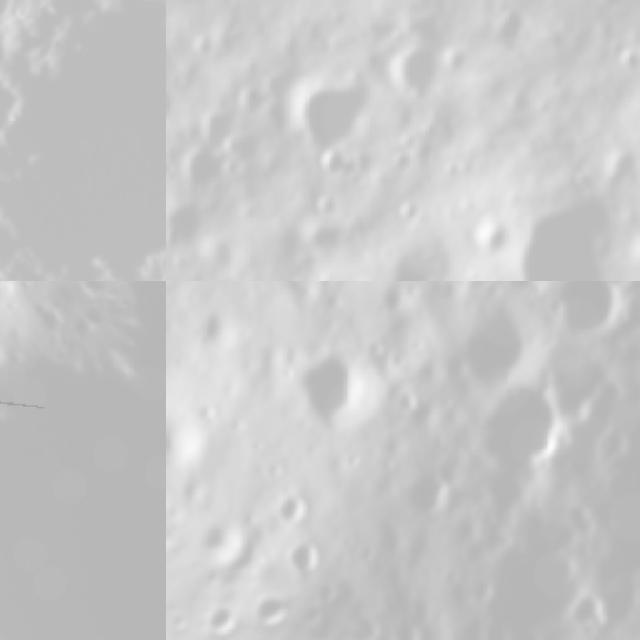crater: (0, 289, 166, 640), (0, 0, 166, 281), (537, 281, 640, 638), (460, 356, 595, 496), (434, 282, 564, 420), (275, 332, 397, 455), (523, 281, 640, 371), (505, 204, 613, 281), (294, 79, 371, 150), (166, 400, 221, 491), (260, 475, 327, 541), (272, 532, 337, 596), (400, 281, 517, 314), (48, 294, 102, 354), (464, 209, 510, 260), (399, 46, 439, 97), (166, 202, 206, 249), (487, 4, 526, 51), (192, 106, 236, 144), (183, 152, 228, 184), (604, 147, 638, 186), (608, 44, 640, 76), (504, 85, 530, 122), (242, 81, 265, 117), (395, 130, 418, 154), (314, 194, 340, 215), (383, 26, 405, 49), (445, 48, 466, 72), (388, 155, 414, 174), (192, 32, 210, 58), (400, 201, 421, 223), (442, 157, 463, 179)
